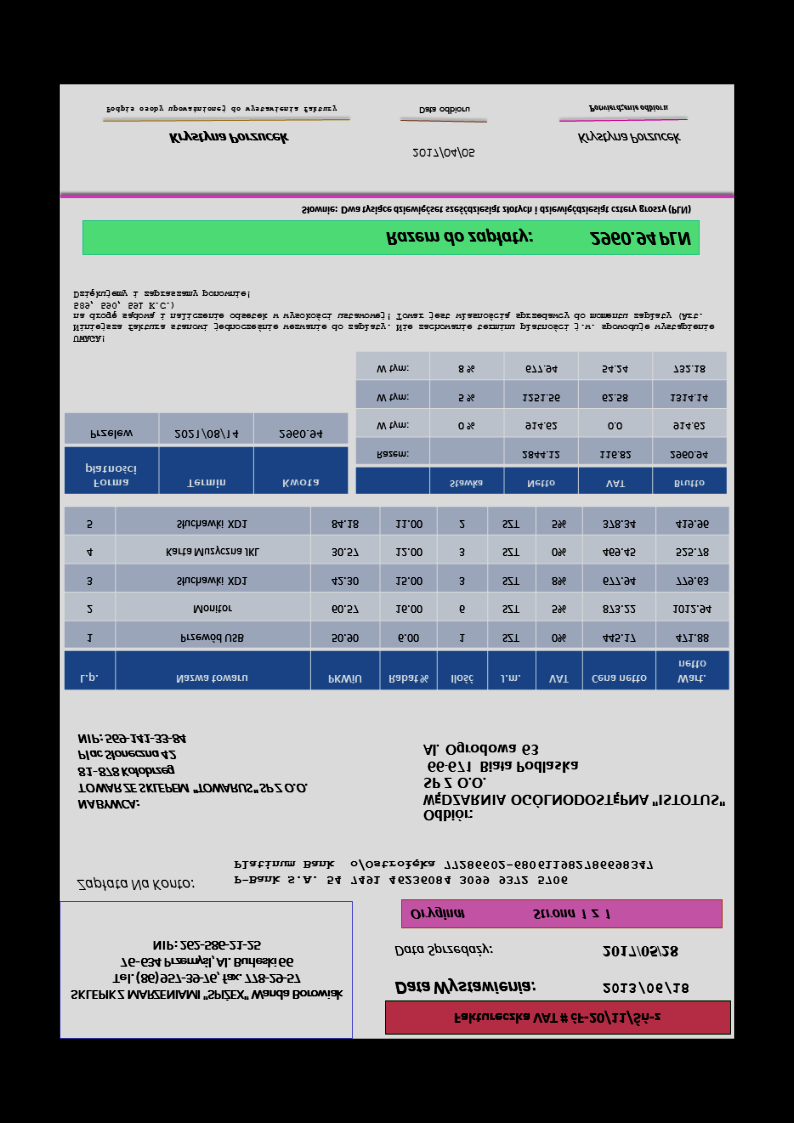Table: (63, 505, 731, 690), (354, 351, 729, 495), (62, 411, 349, 495)
TextBox: (70, 286, 717, 345), (422, 740, 728, 823), (74, 730, 312, 812), (68, 937, 344, 1006), (231, 855, 657, 888), (299, 202, 693, 218), (383, 228, 693, 248), (452, 1009, 663, 1027), (104, 101, 338, 117), (411, 906, 615, 923), (394, 977, 538, 997), (74, 875, 197, 893), (168, 128, 291, 145), (576, 128, 683, 147), (393, 942, 494, 958), (601, 978, 690, 996), (410, 144, 477, 163), (602, 943, 678, 959), (587, 102, 671, 114), (417, 104, 473, 117)
